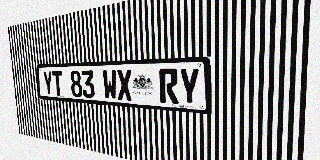3: (81, 70, 95, 98)
8: (70, 70, 83, 97)
R: (159, 68, 179, 104)
T: (52, 71, 64, 96)
W: (102, 70, 117, 100)
X: (116, 69, 133, 101)
Y: (179, 68, 200, 106), (43, 71, 54, 95)
